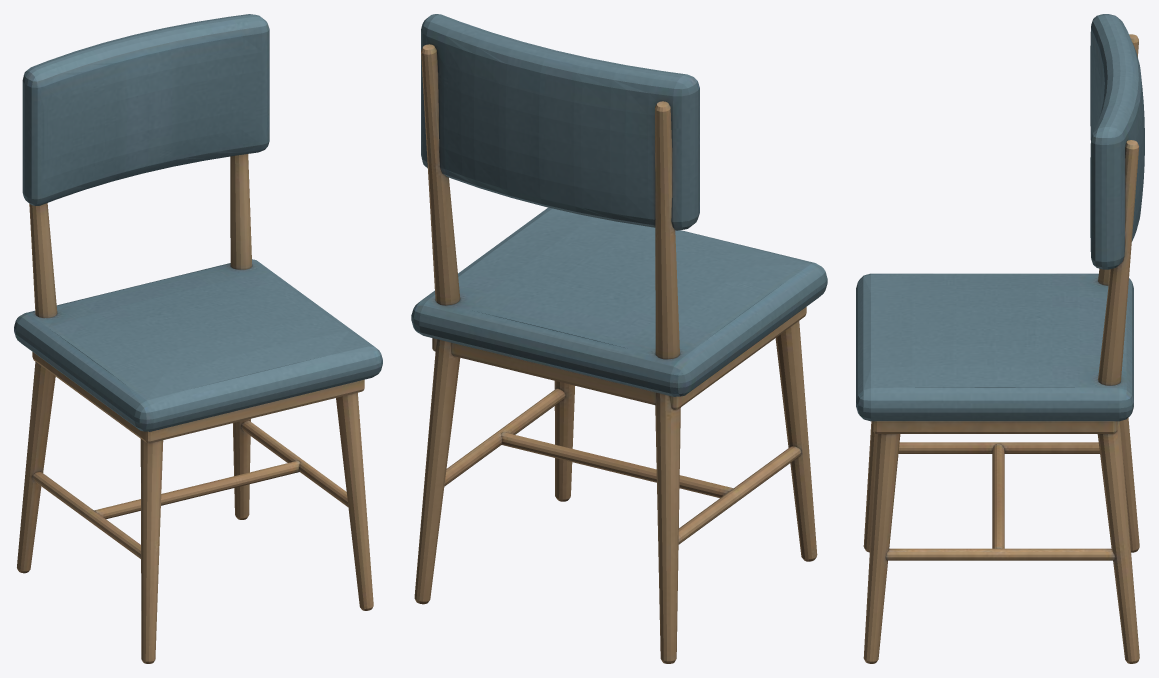
Rendered from chair.glb.
3 renders of one model, left to right at view 1: azimuth 30°, elevation 25°; view 2: azimuth 150°, elevation 25°; view 3: azimuth 270°, elevation 25°, orthographic. The views are drawn at different scales.
Parts seen in each view (by area): view 1: chair; view 2: chair; view 3: chair.
Boxes of the visible parts, bbox=[...] form: chair: bbox=[14, 14, 382, 663]; chair: bbox=[411, 14, 827, 663]; chair: bbox=[856, 14, 1144, 663].
Size of the model in its own units: 0.44 by 0.8709 by 0.426.
Materials: 1 (1 with a texture image).
